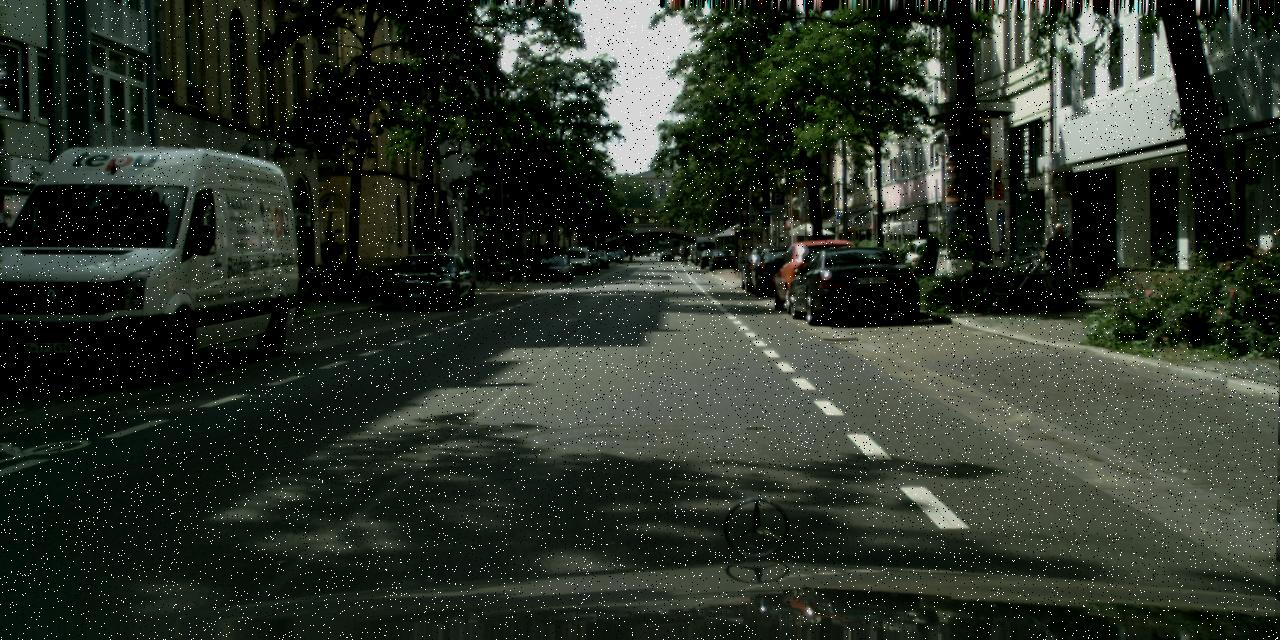ped: (1045, 222, 1073, 292), (321, 234, 341, 284), (679, 246, 687, 265), (690, 247, 698, 264), (628, 248, 633, 260)
